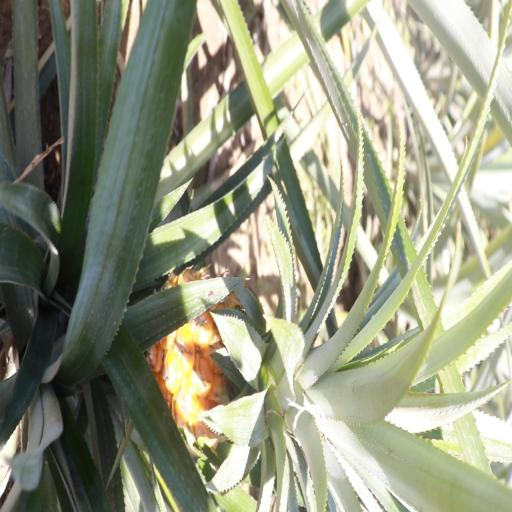Pineapple - v8 v1: (140, 281, 399, 474)
